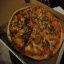pizza: (10, 5, 61, 58)
